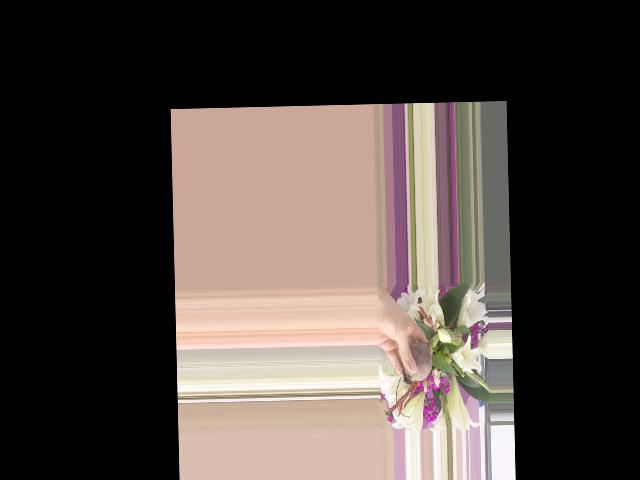beet: (401, 331, 439, 385)
